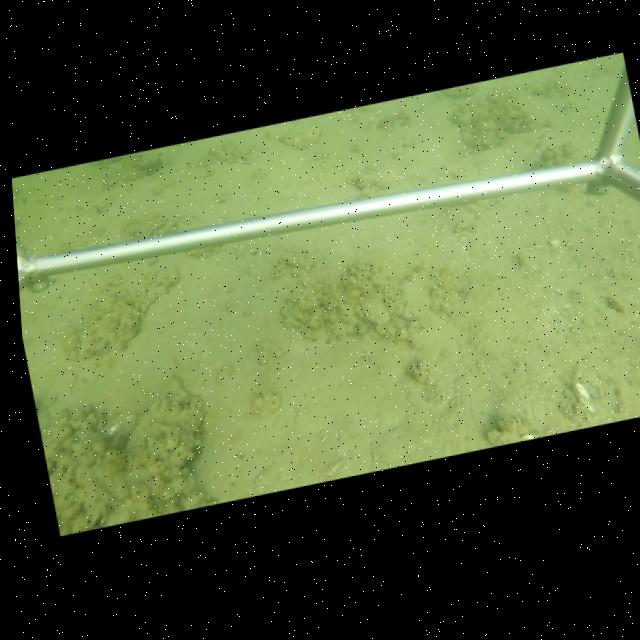Oyster-Closed: (358, 294, 393, 328)
